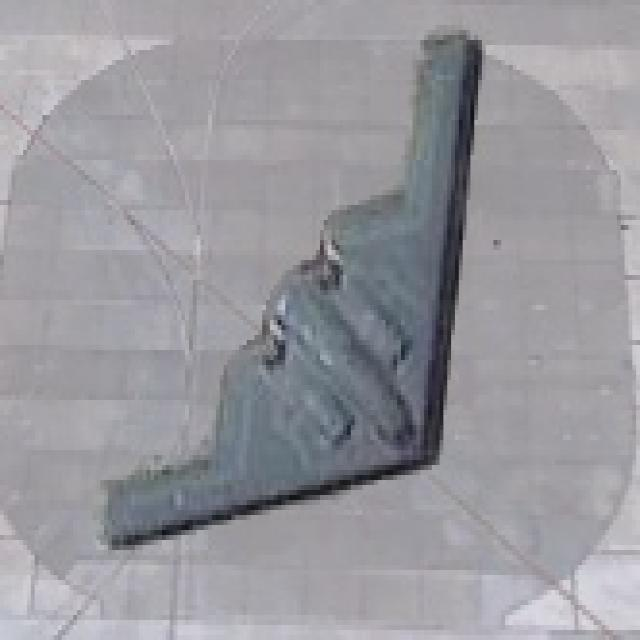B-2_TopDown: (96, 25, 486, 545)
